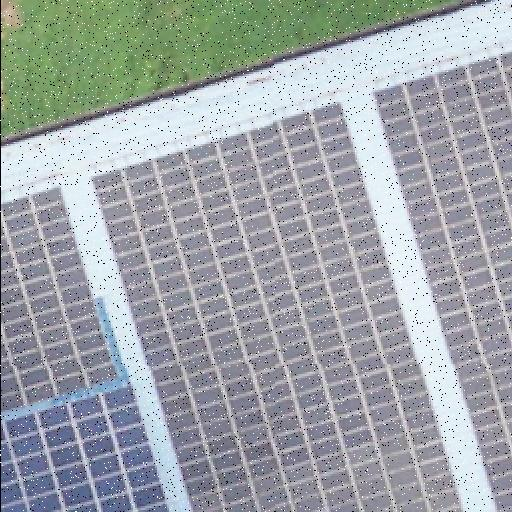solar-panel: (97, 102, 463, 512), (369, 52, 511, 512), (2, 187, 118, 413), (2, 384, 170, 512)
